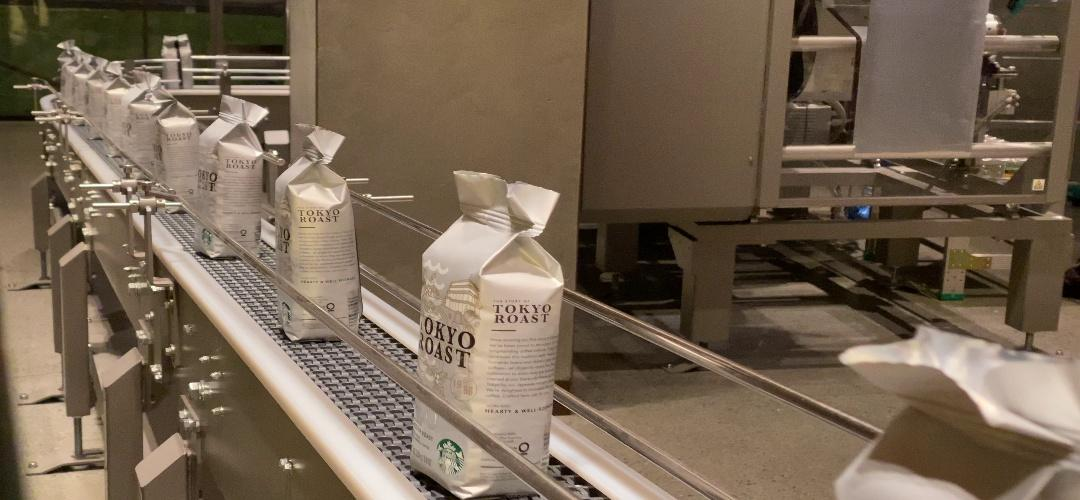conveyor: (416, 248, 557, 376), (272, 177, 360, 276), (200, 136, 263, 212)
